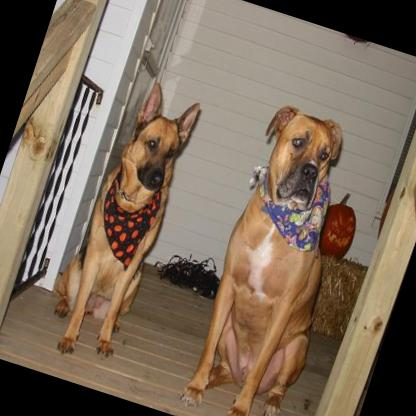bull_mastiff: (170, 95, 378, 416), (32, 65, 212, 376)
